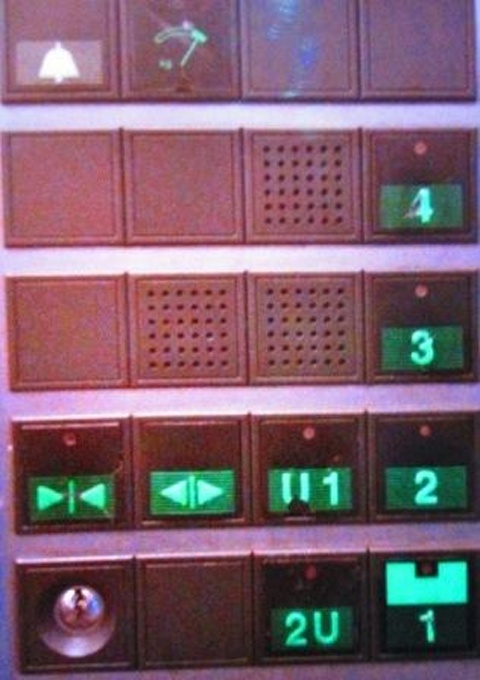1: (373, 550, 478, 664)
2: (373, 407, 479, 527)
2U: (251, 549, 370, 664)
3: (366, 271, 480, 383)
4: (363, 128, 479, 248)
U1: (253, 409, 367, 528)
alarm: (1, 1, 121, 103)
bt_keyhole: (10, 552, 136, 675)
close: (7, 415, 133, 534)
empty: (3, 272, 129, 394), (123, 130, 244, 248), (4, 130, 122, 246), (138, 552, 251, 670), (240, 1, 359, 101), (361, 1, 476, 103)
open: (133, 413, 250, 532)
speaker: (246, 269, 364, 388), (241, 130, 361, 246), (130, 271, 246, 391)
unknown: (121, 1, 239, 103)
